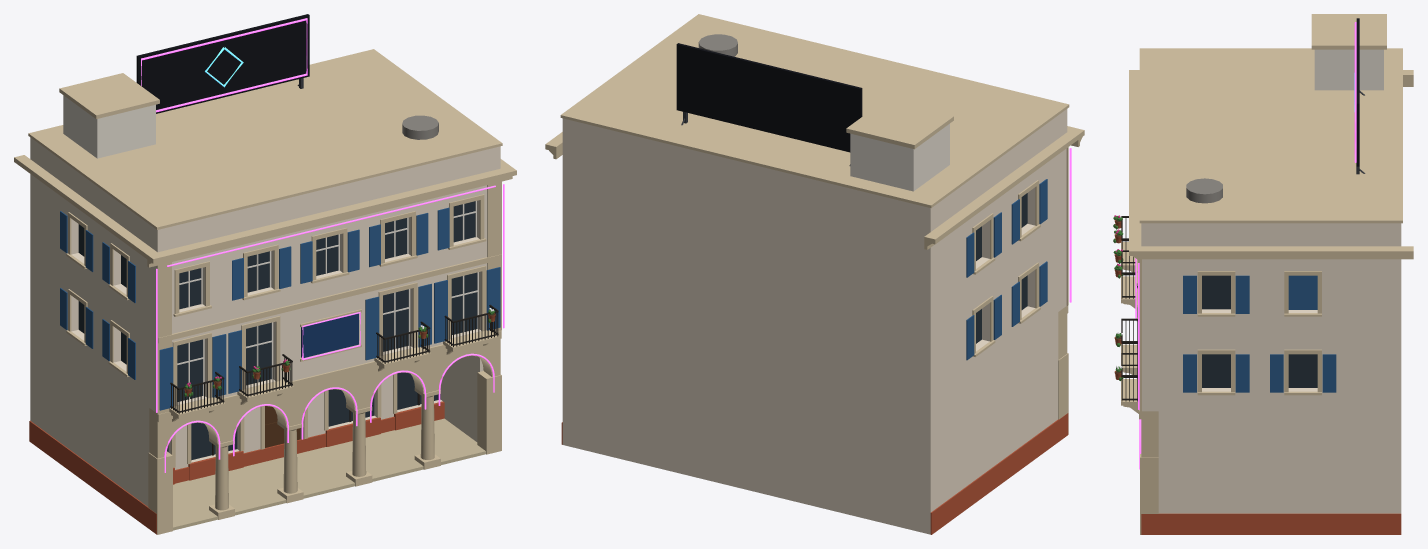
The picture shows the model from 3 angles, left to right: view 1: azimuth 30°, elevation 25°; view 2: azimuth 150°, elevation 25°; view 3: azimuth 270°, elevation 25°; orthographic projection. The views are drawn at different scales.
Visible parts, largest first — view 1: arcade.lod0; view 2: arcade.lod0; view 3: arcade.lod0.
Boxes of the visible parts, x1,y1,x2,y2 form: arcade.lod0: (14, 14, 516, 534); arcade.lod0: (545, 14, 1084, 534); arcade.lod0: (1113, 14, 1413, 534).
Bounding box in the file's own units: 14.84 × 14.8 × 10.38.
